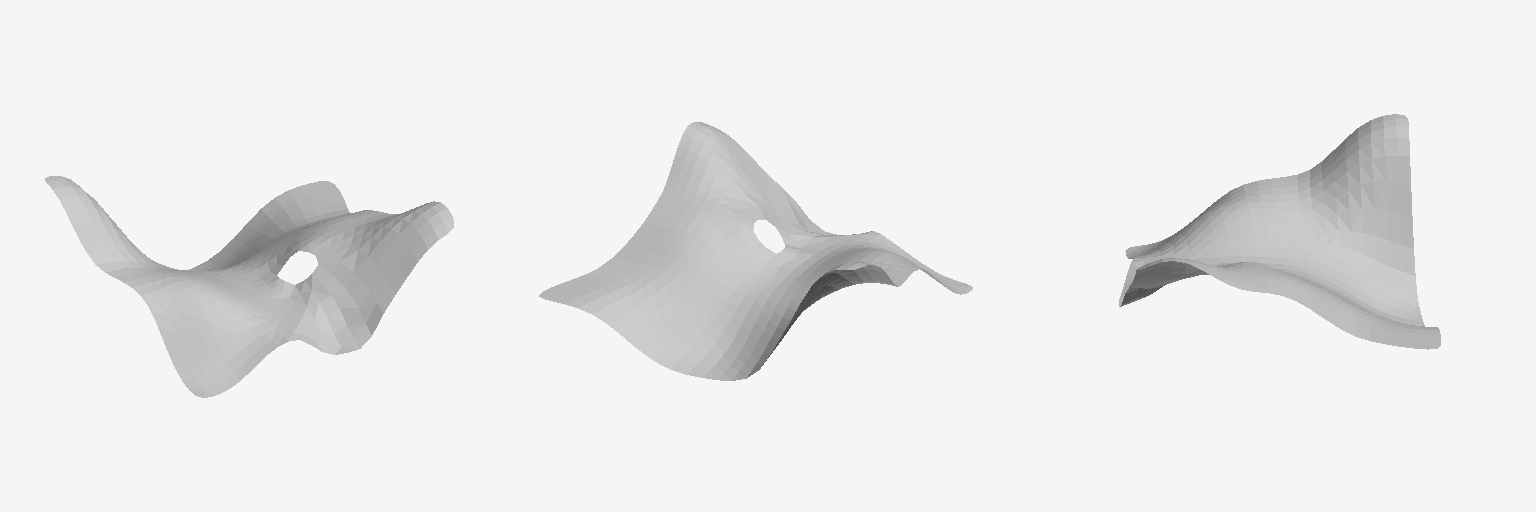
The model's file is Mesh2_Hole.obj.
3 views of the same model, side by side, from view 1: azimuth 30°, elevation 25°; view 2: azimuth 150°, elevation 25°; view 3: azimuth 270°, elevation 25° (orthographic).
Visible parts, largest first — view 1: Hole_Plane.011; view 2: Hole_Plane.011; view 3: Hole_Plane.011.
Boxes of the visible parts, x1=… form: Hole_Plane.011: x1=45, y1=176, x2=453, y2=397; Hole_Plane.011: x1=539, y1=122, x2=972, y2=380; Hole_Plane.011: x1=1119, y1=114, x2=1440, y2=349.
Size of the model in its own units: 2.52 by 1.08 by 2.31.